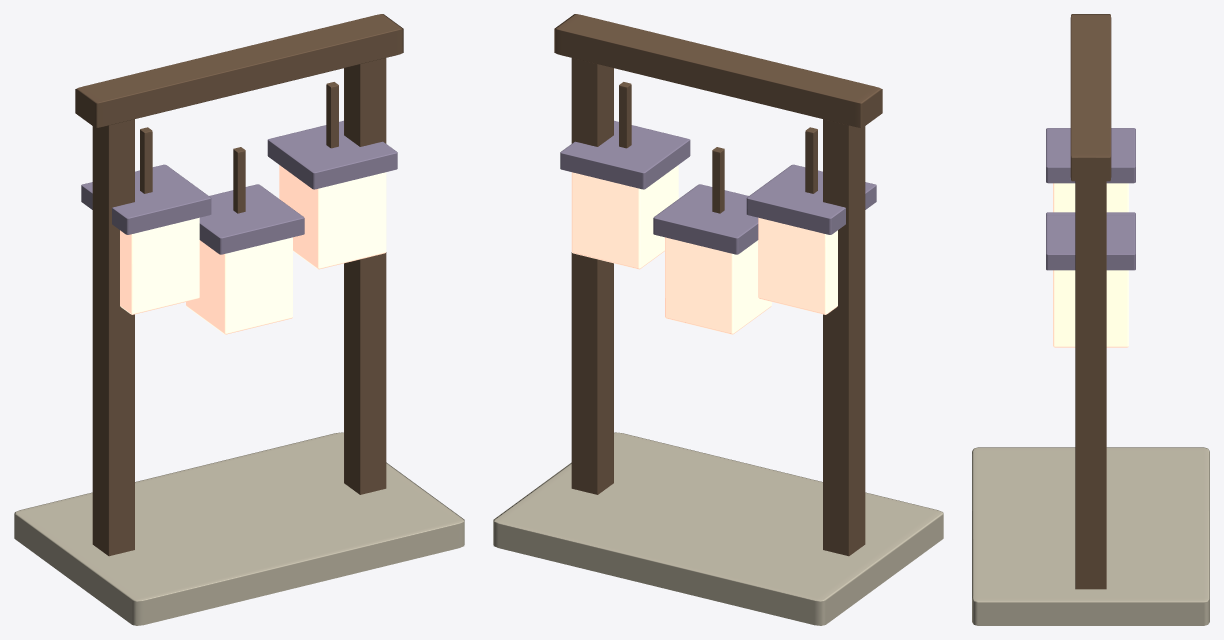
File: winterlantern-2.glb
3 renders of one model, left to right at view 1: azimuth 30°, elevation 25°; view 2: azimuth 150°, elevation 25°; view 3: azimuth 270°, elevation 25°, orthographic. The views are drawn at different scales.
Visible parts, largest first — view 1: winterlantern-2-0; view 2: winterlantern-2-0; view 3: winterlantern-2-0.
Part boxes in pixels (x1,y1,x2,y2): winterlantern-2-0: [14, 14, 464, 625]; winterlantern-2-0: [493, 14, 943, 625]; winterlantern-2-0: [972, 14, 1209, 625].
Size of the model in its own units: 0.82 by 1.14 by 0.53.
